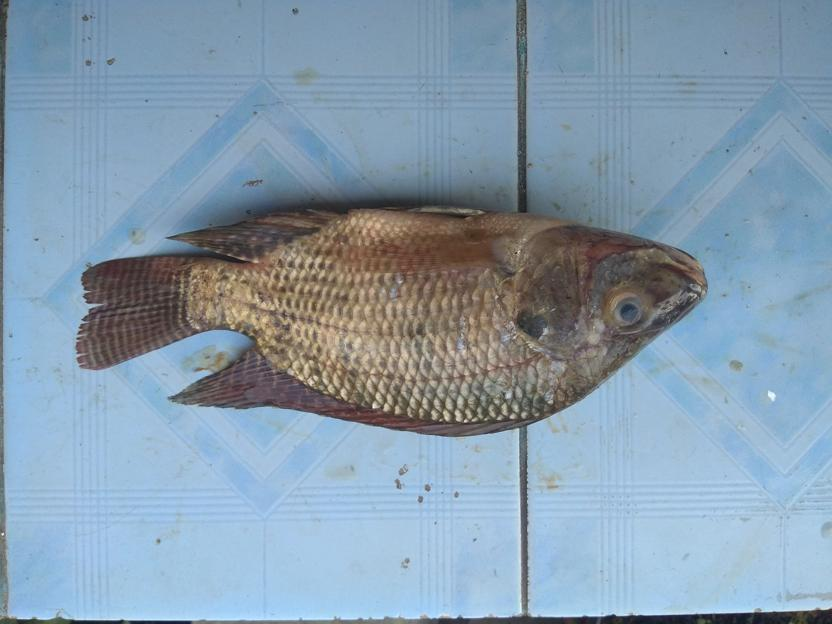Fish head: (514, 220, 709, 378)
Fish tail: (75, 252, 211, 371)
